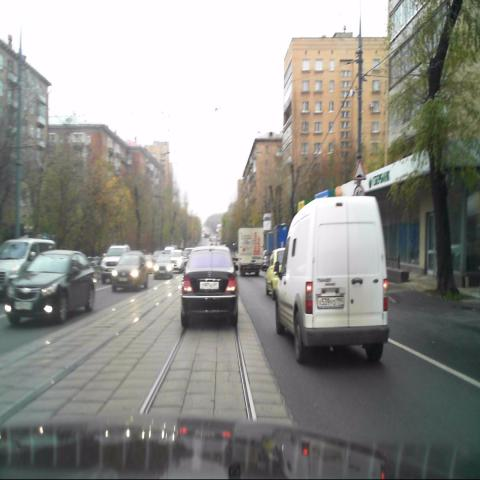1_17: (354, 160, 365, 181)
